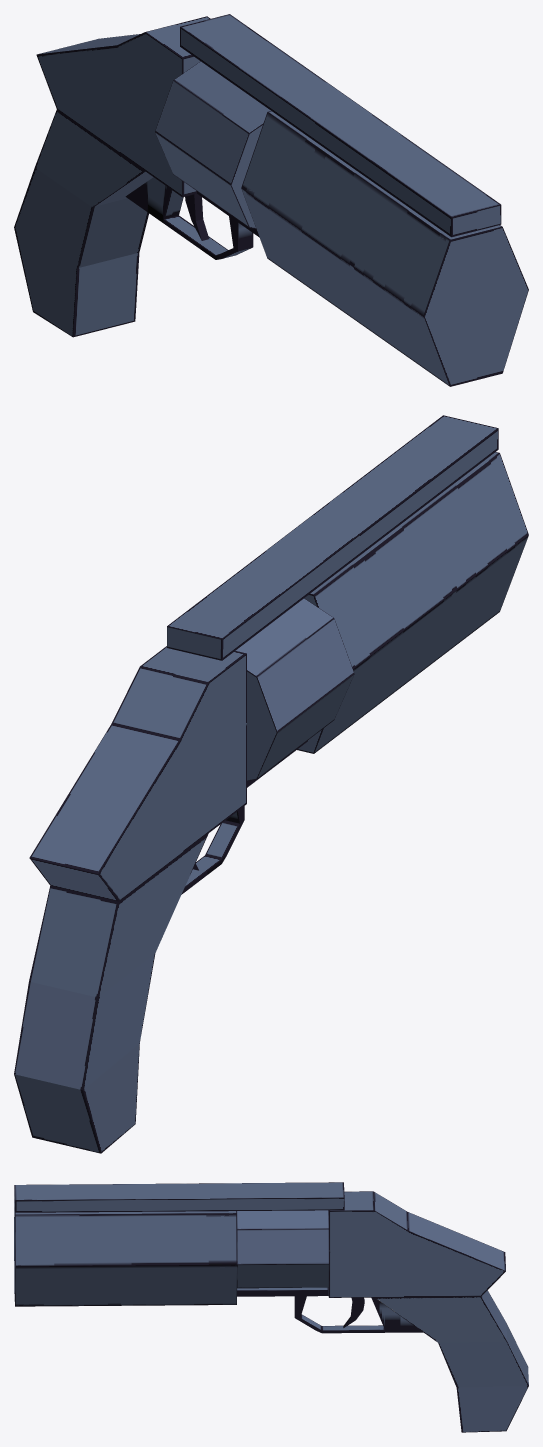
File: rev_00.glb
3 renders of one model, top to bottom at view 1: azimuth 30°, elevation 25°; view 2: azimuth 150°, elevation 25°; view 3: azimuth 270°, elevation 25°, orthographic. The views are drawn at different scales.
Parts seen in each view (by area): view 1: Cylinder.001, Cube.002, Cube, Cube.001, Cylinder.002, Cube.003; view 2: Cube.001, Cube.002, Cylinder.001, Cube, Cylinder.002, Cube.003; view 3: Cylinder.001, Cube.001, Cube.002, Cube, Cylinder.002, Cube.003.
Boxes of the visible parts, x1,y1,x2,y2 form: Cylinder.001: (241, 111, 528, 386); Cube.002: (14, 109, 153, 337); Cube: (180, 14, 501, 237); Cube.001: (36, 16, 210, 197); Cylinder.002: (155, 61, 270, 228); Cube.003: (125, 177, 259, 259); Cube.001: (29, 646, 246, 901); Cube.002: (14, 833, 208, 1153); Cylinder.001: (297, 452, 528, 753); Cube: (167, 415, 498, 660); Cylinder.002: (235, 598, 354, 780); Cube.003: (181, 740, 307, 894); Cylinder.001: (14, 1200, 237, 1306); Cube.001: (328, 1191, 505, 1297); Cube.002: (375, 1290, 528, 1432); Cube: (14, 1182, 344, 1212); Cylinder.002: (236, 1210, 329, 1288); Cube.003: (237, 1287, 423, 1333).
Bounding box in the file's own units: 0.7442 × 2.06 × 4.09.
6 materials, 6 textured.
